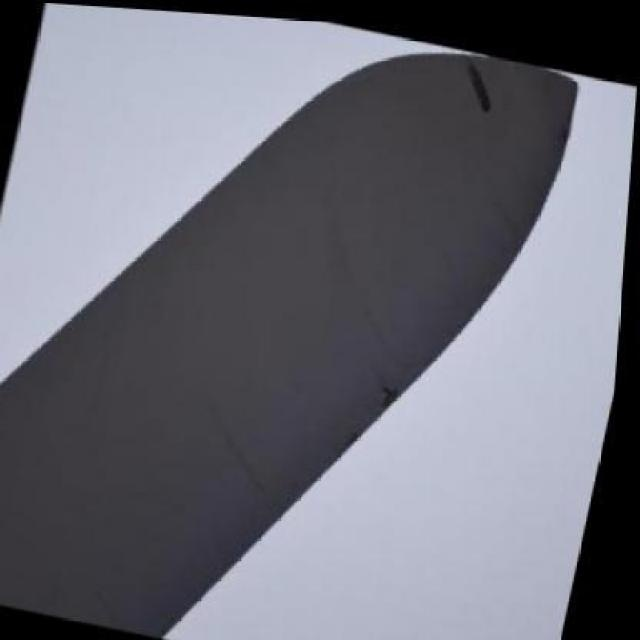Burn Mark: (456, 53, 502, 102)
Coating_defects: (370, 382, 409, 431)
